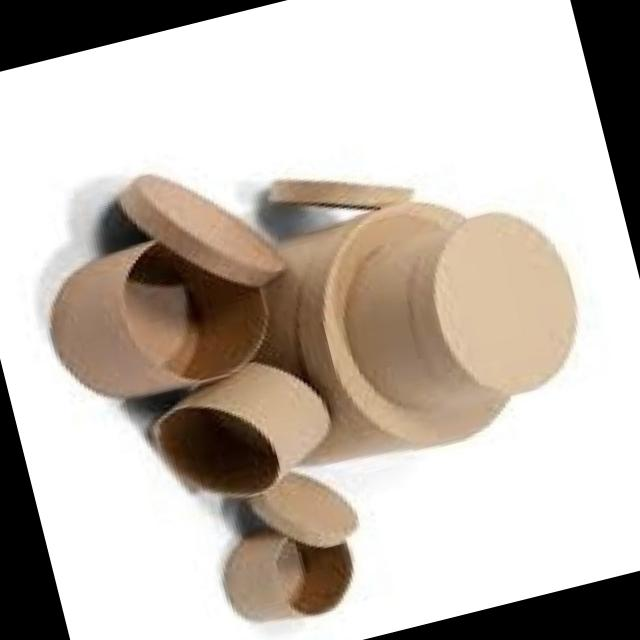cardboard paper: (54, 175, 578, 545)
